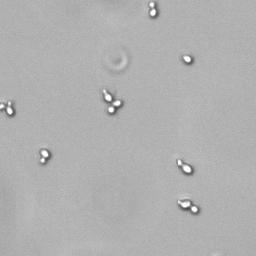budding: (174, 154, 197, 178), (1, 98, 22, 121), (176, 197, 201, 216), (34, 147, 53, 166), (146, 1, 160, 21)
cluster: (97, 86, 126, 118)
individual: (179, 51, 196, 68)
